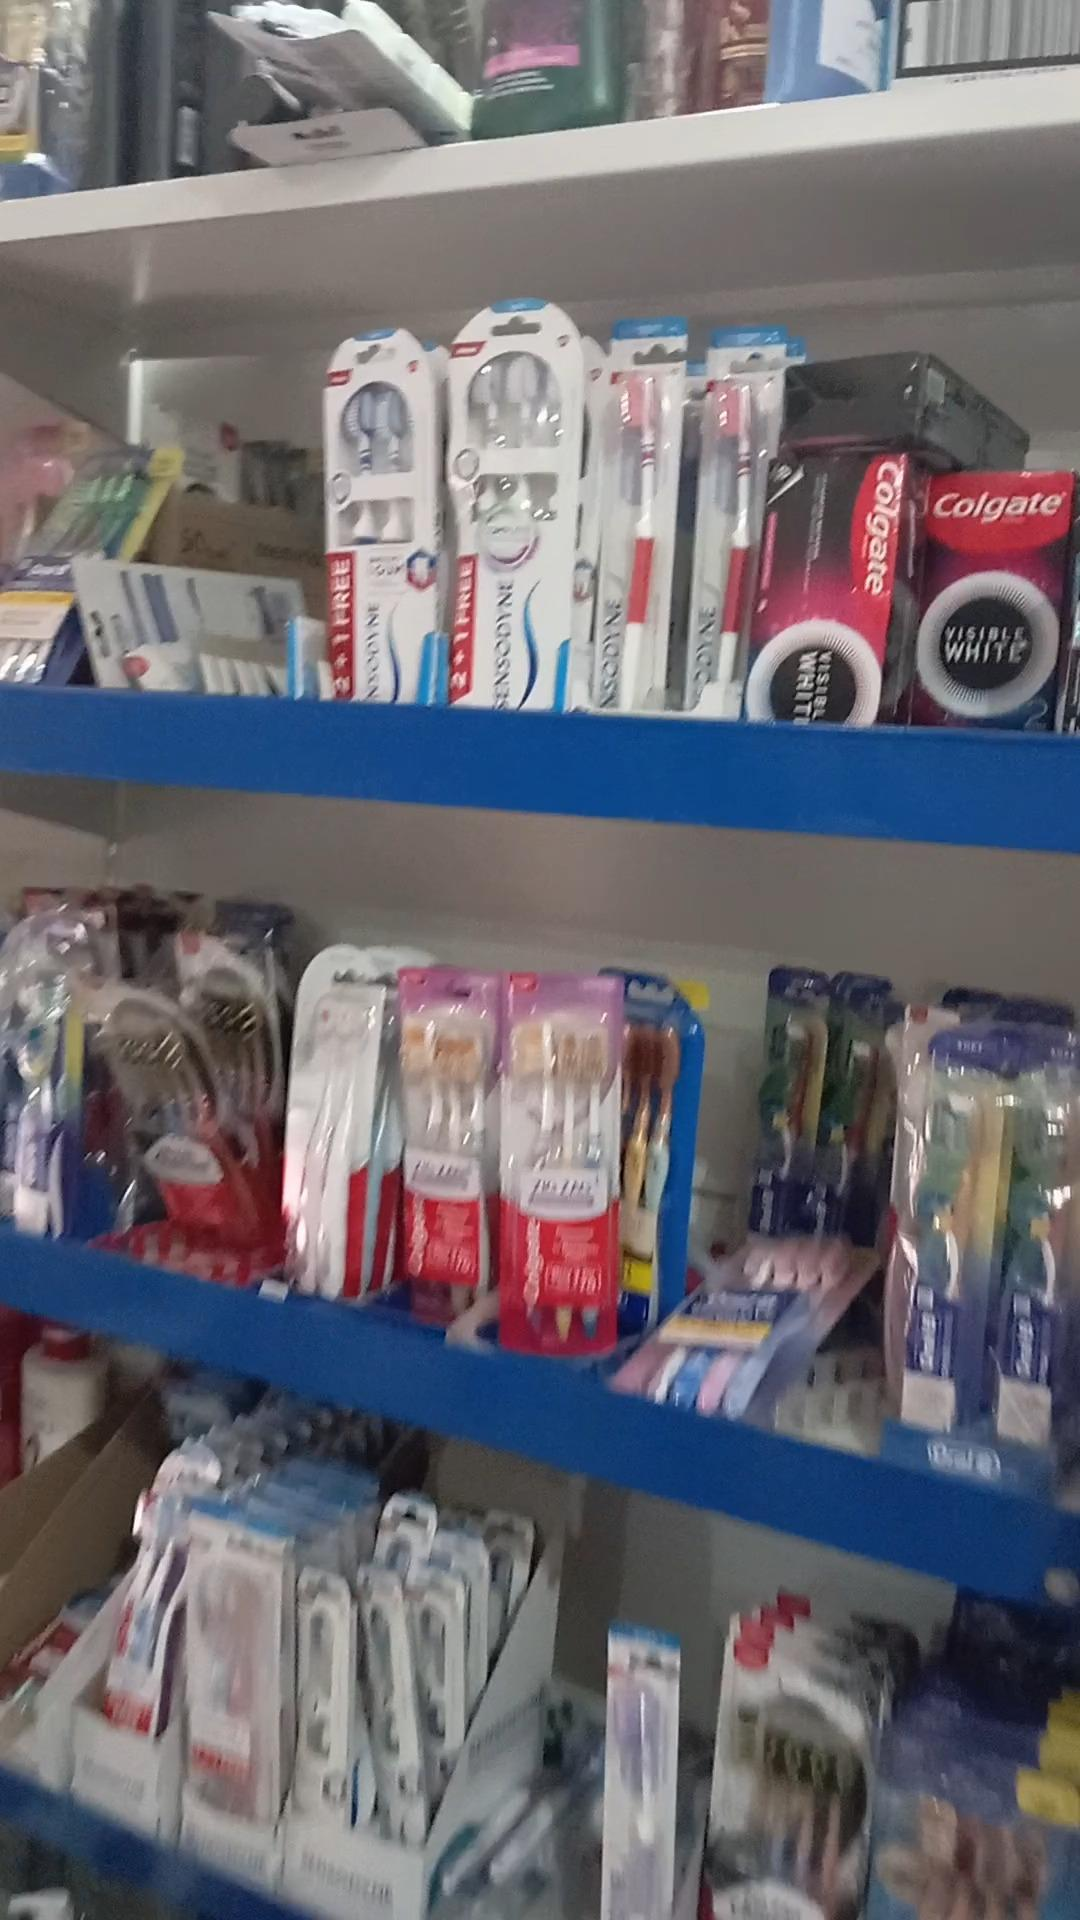16: (323, 324, 434, 696)
4: (451, 297, 571, 715)
9: (898, 1029, 993, 1429), (1002, 1030, 1080, 1455), (11, 916, 69, 1233)
liquid soap: (96, 994, 218, 1236)
